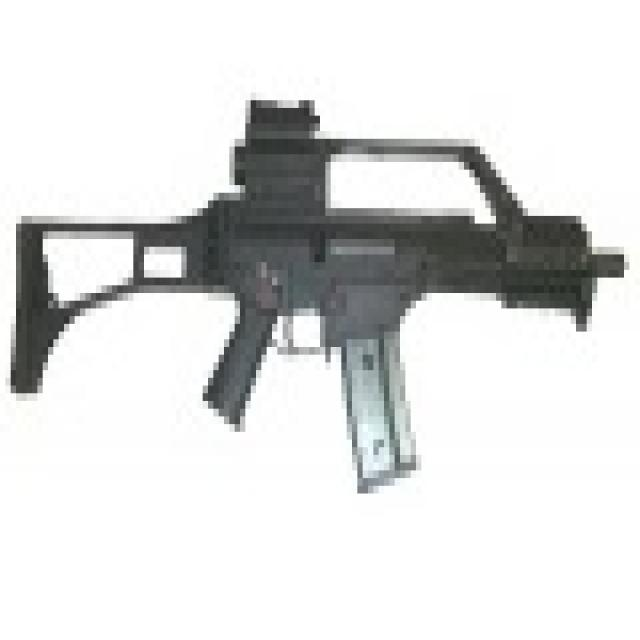Gun: (10, 84, 640, 493)
